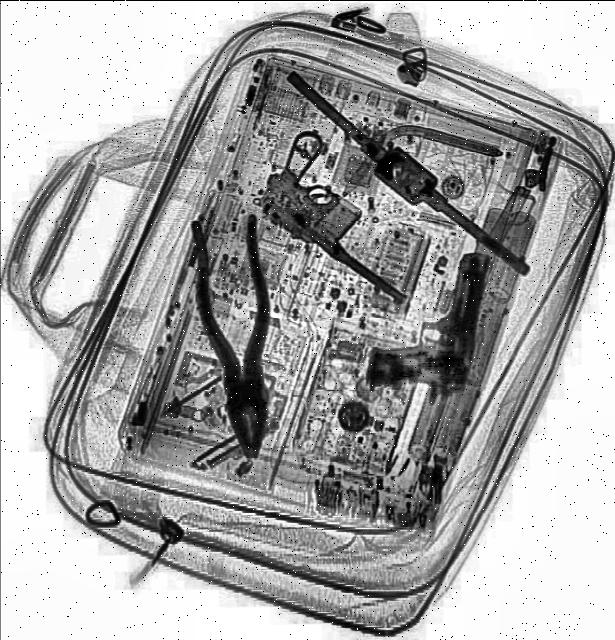Gun: (243, 125, 459, 311), (365, 240, 495, 406)
Pliers: (185, 214, 289, 463)
